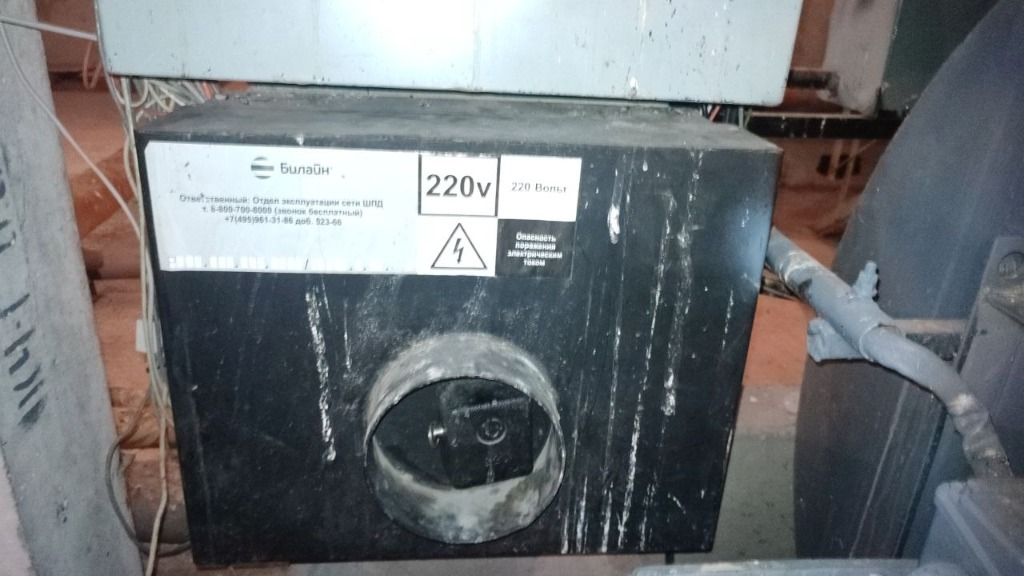shta-3: (129, 87, 791, 562)
